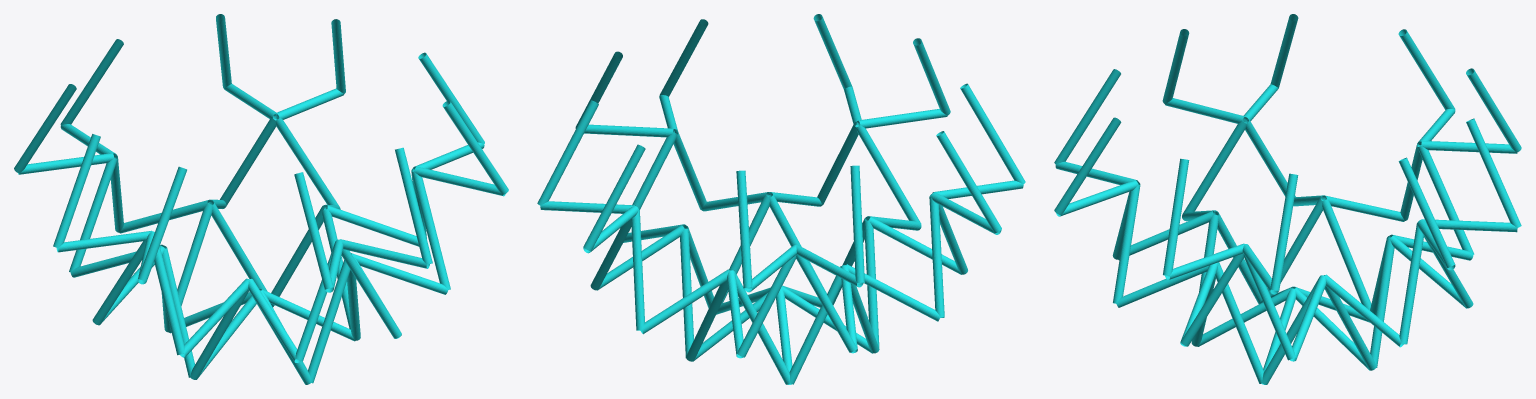
Rendered from trinexus3_2c.glb.
3 renders of one model, left to right at view 1: azimuth 30°, elevation 25°; view 2: azimuth 150°, elevation 25°; view 3: azimuth 270°, elevation 25°, orthographic.
Visible parts, largest first — view 1: Mesh_149.001; view 2: Mesh_149.001; view 3: Mesh_149.001.
Part boxes in pixels (x1,y1,x2,y2): Mesh_149.001: (14, 14, 508, 384); Mesh_149.001: (537, 14, 1025, 384); Mesh_149.001: (1054, 14, 1521, 384).
Size of the model in its own units: 6.42 by 3.65 by 6.11.
